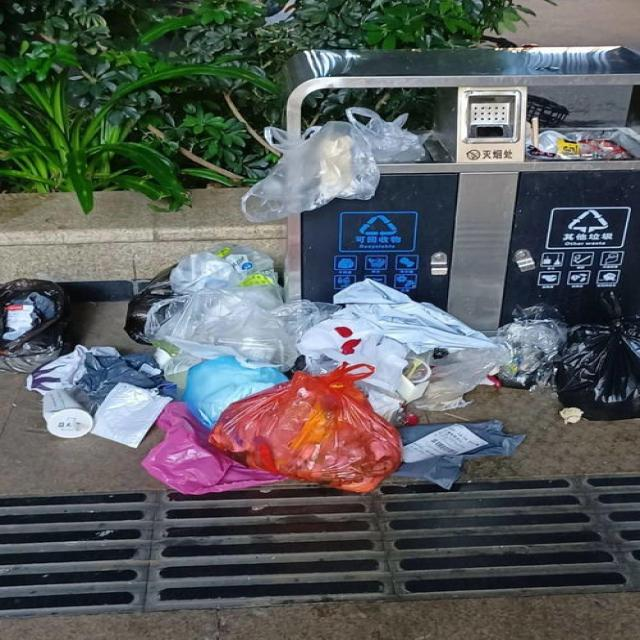garbage: (0, 243, 639, 496)
overflow: (284, 44, 639, 338)
